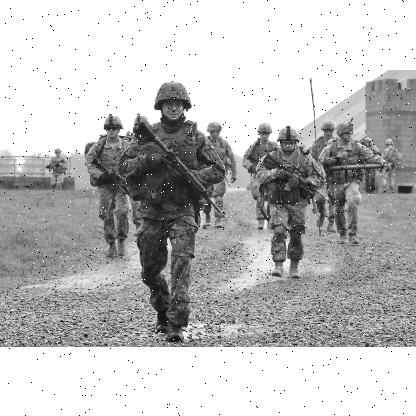gun: (131, 130, 223, 218), (260, 150, 332, 198)
